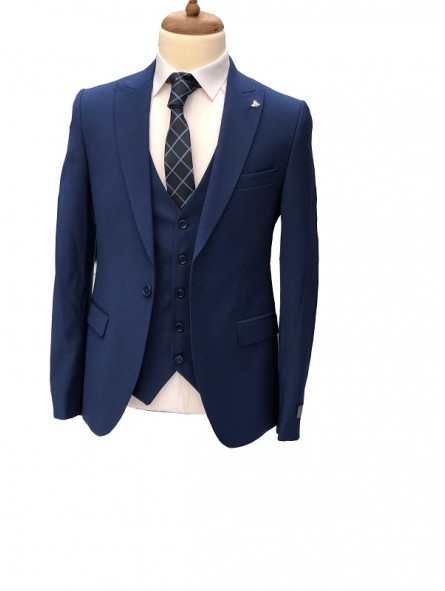F_M_suit jacket: (39, 65, 324, 437)
F_tie: (161, 70, 199, 209)
